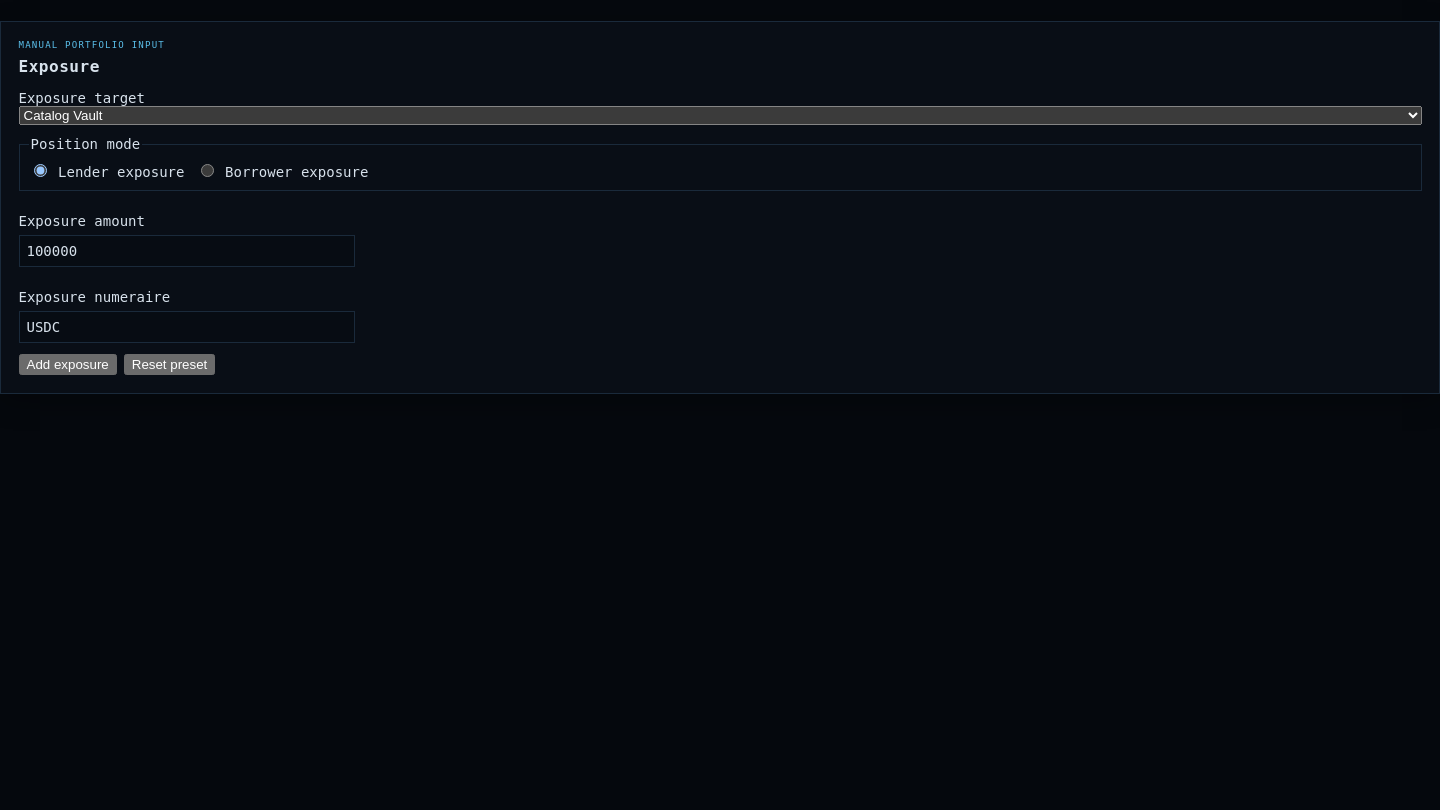
Test: ExposureRail › rejects non-positive amounts and an LTV outside the open 0-100 range
The image size is (1440, 810).
Click the radio button labelled "Borrower exposure" at (207, 171), box [201,164,214,178]
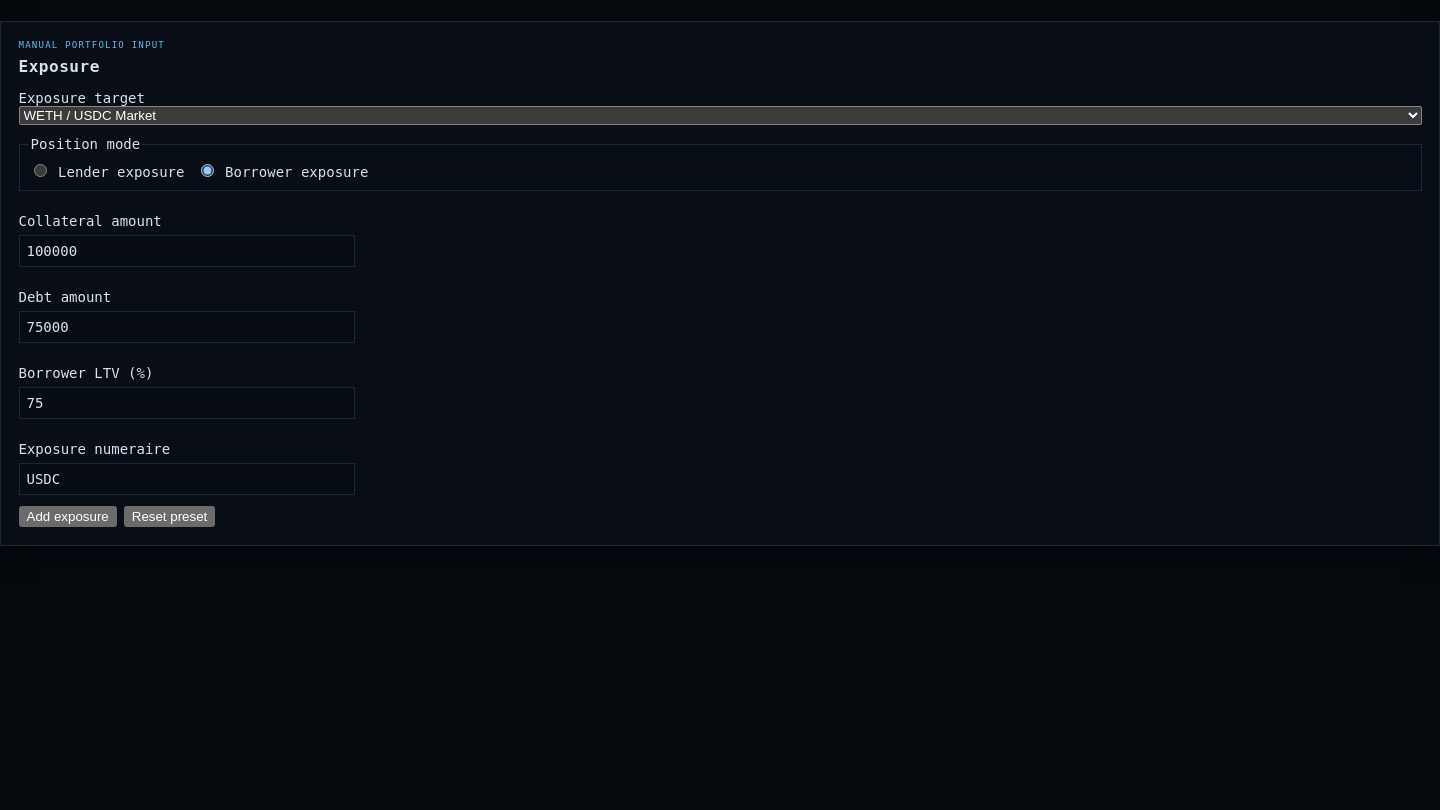
Replace the text in the field labelled "Collateral amount" with "0" at (186, 251), box [18,235,354,267]
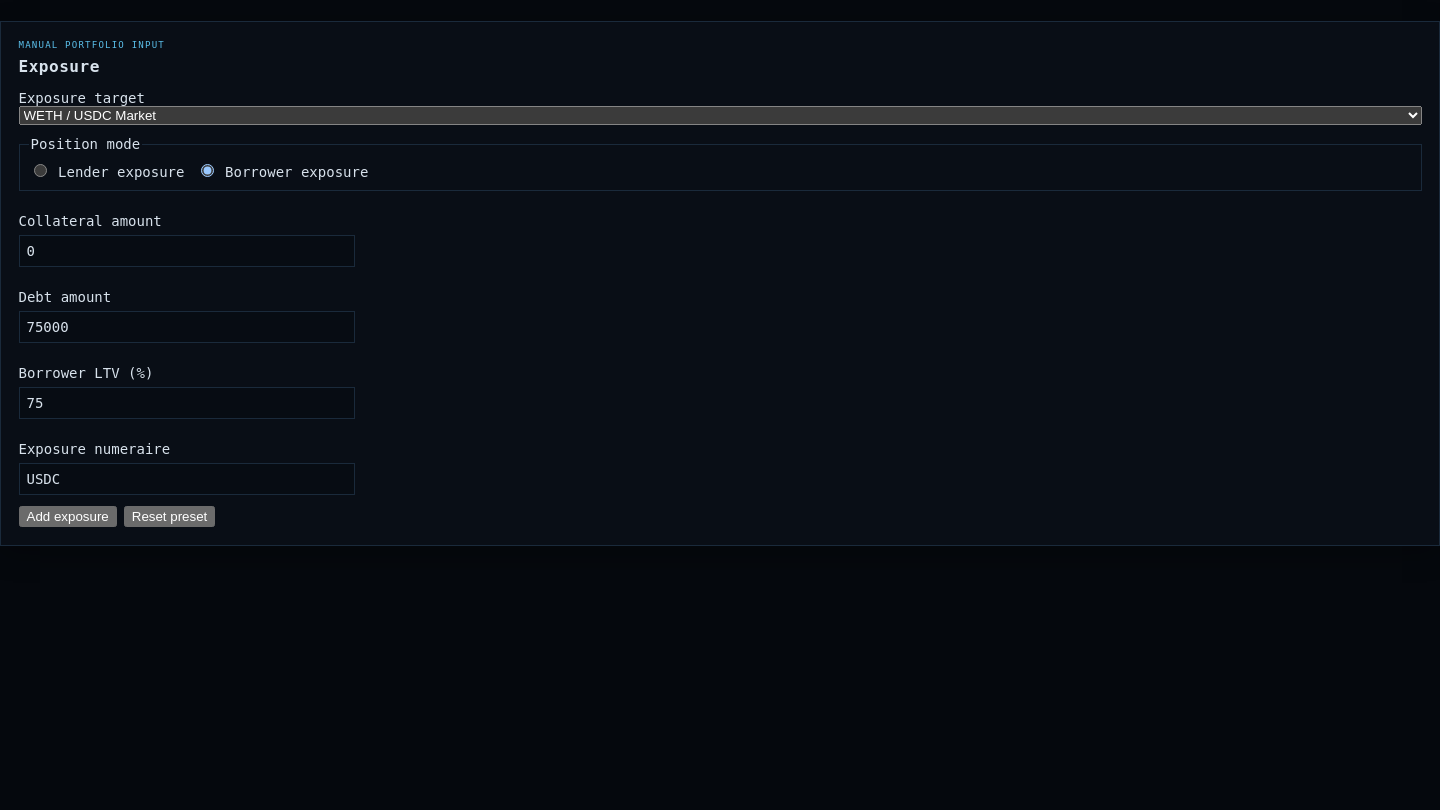
Replace the text in the field labelled "Debt amount" with "-1" at (186, 326), box [18,310,354,342]
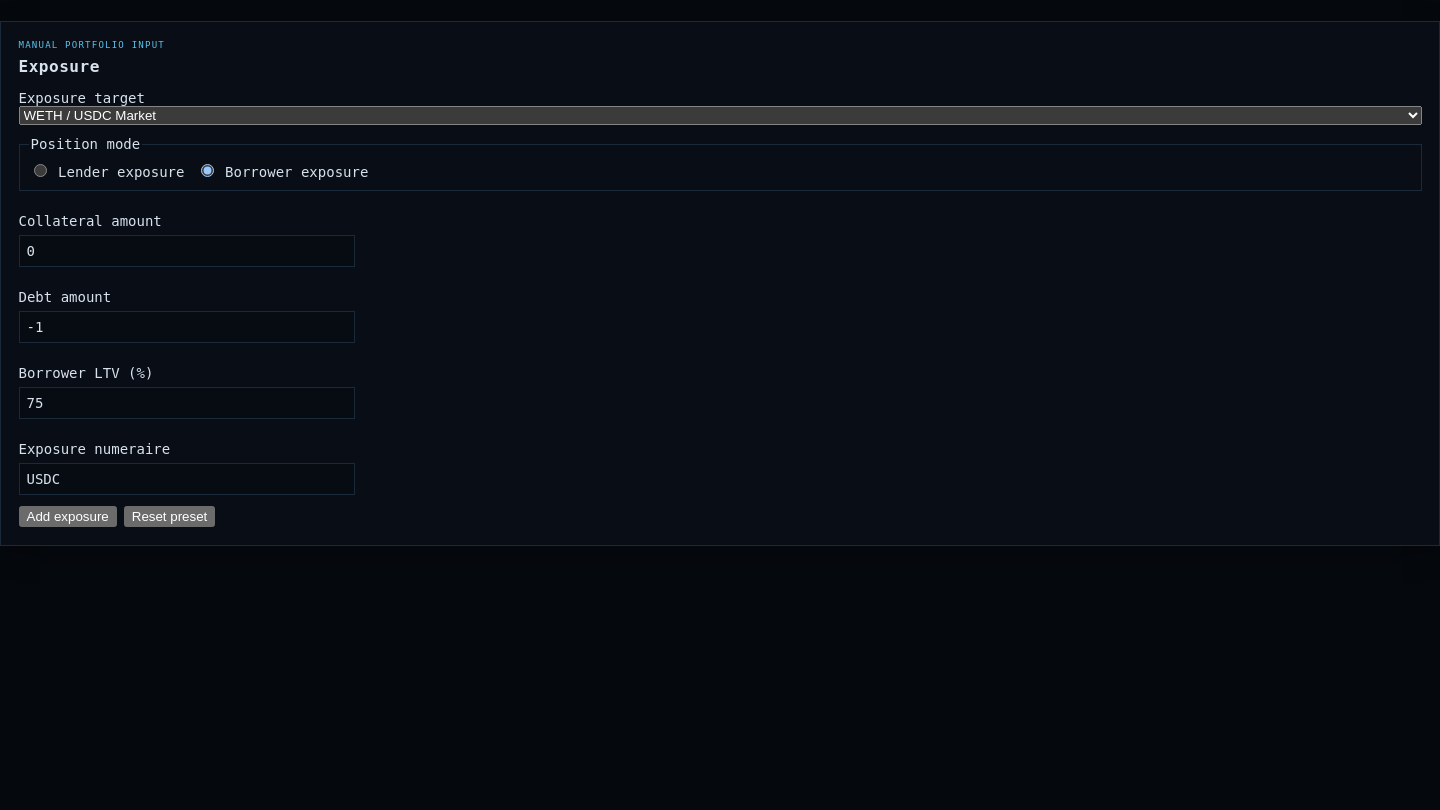
Replace the text in the field labelled "Borrower LTV (%)" with "100" at (186, 402), box [18,386,354,418]
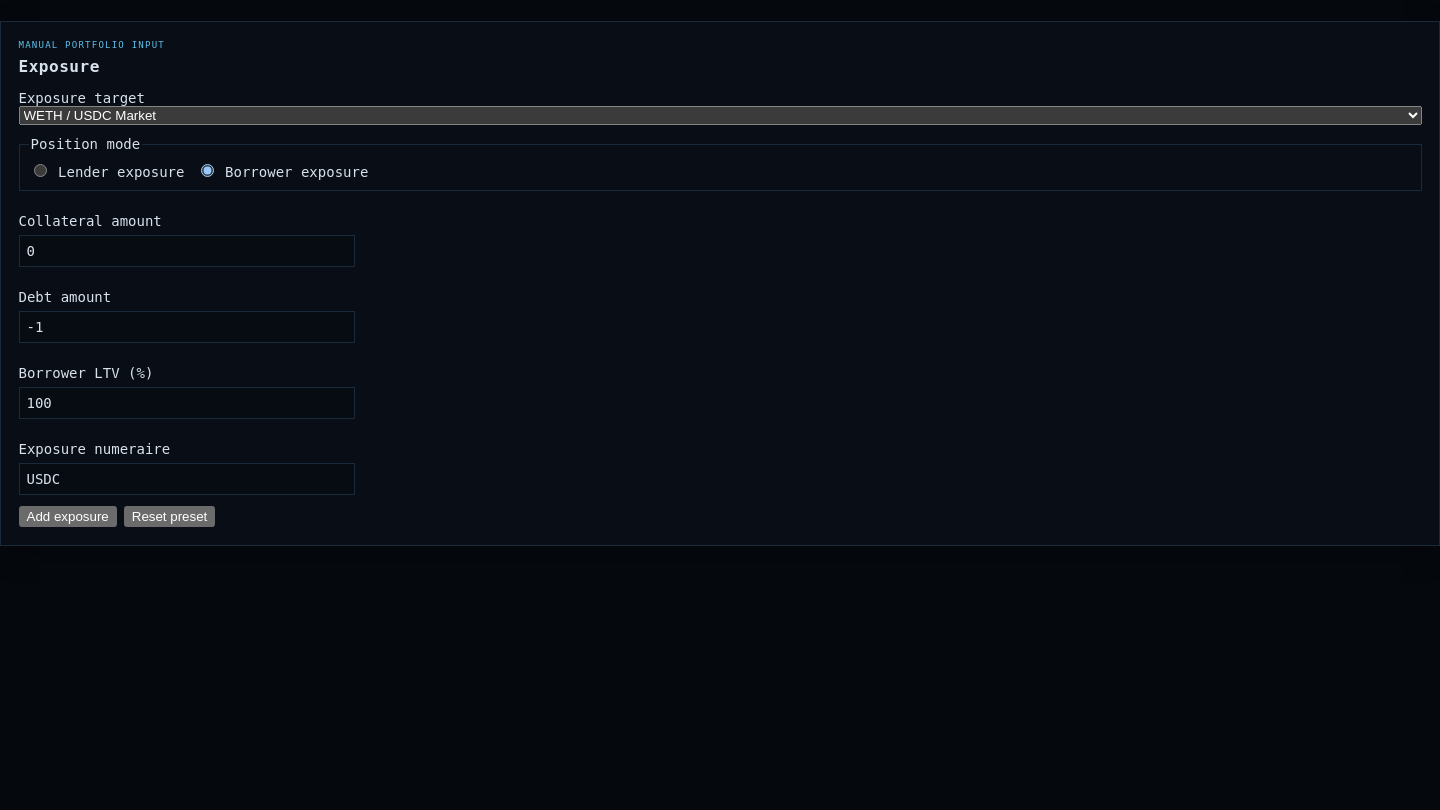
Click the button "Add exposure" at (68, 517), box [18,506,117,527]
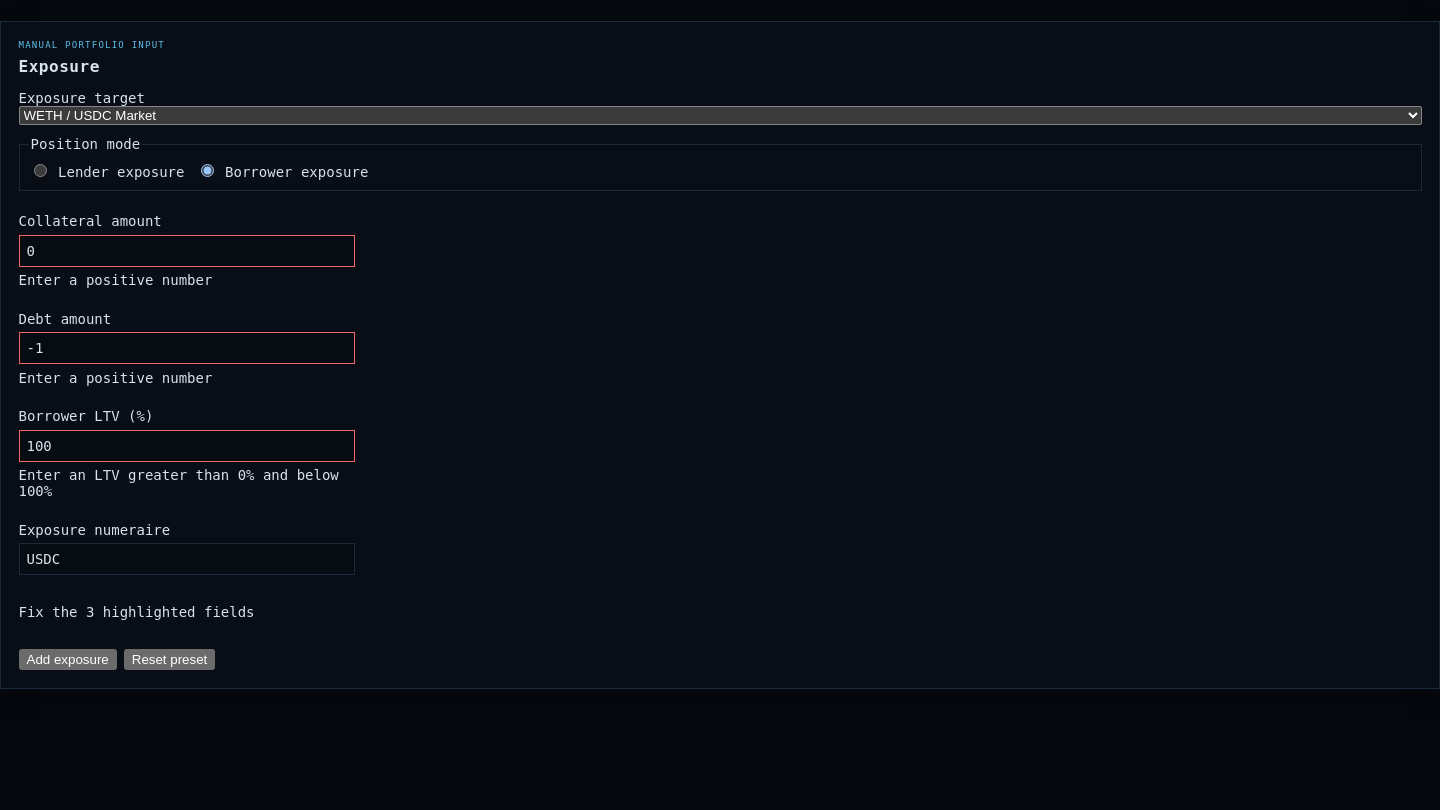
Expected: the message reads "Fix the 3 highlighted fields", [18,604,254,620]
